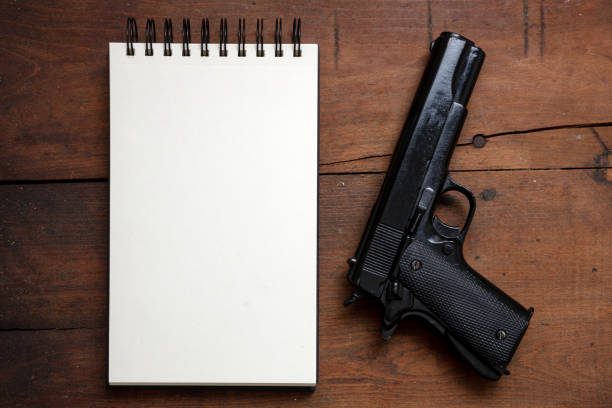gun: (344, 31, 534, 387)
